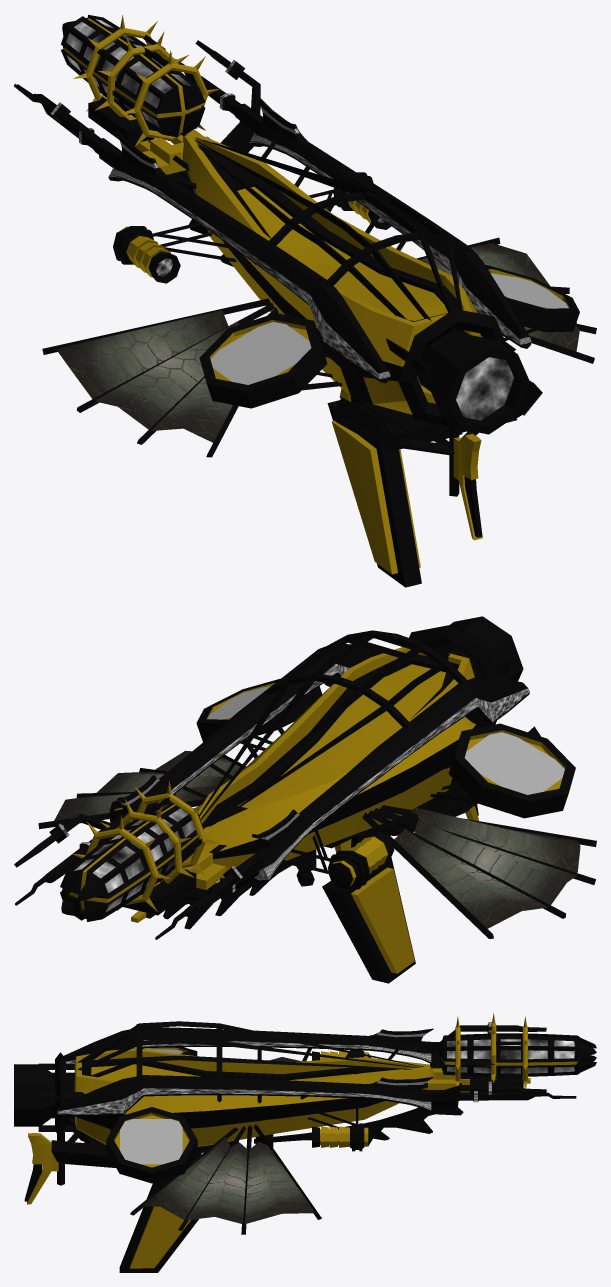
File: P4ShipV3.fbx
3 renders of one model, top to bottom at view 1: azimuth 30°, elevation 25°; view 2: azimuth 150°, elevation 25°; view 3: azimuth 270°, elevation 25°, orthographic. The views are drawn at different scales.
Parts seen in each view (by area): view 1: pCylinder1, pPlane20 (×2), pPlane4, pPlane2, pCylinder25, pPlane19, pCylinder44, pCylinder56, pCylinder28, pPlane21, pPlane3, pCylinder51 (+17 smaller); view 2: pCylinder1, pPlane20 (×2), pPlane4, pCylinder44, pPlane19, pPlane2, pCylinder56, pCylinder28, pPlane21, pCylinder51, pCylinder25, pTorus1 (+20 smaller); view 3: pCylinder1, pPlane2, pPlane20, pPlane4, pCylinder44, pCylinder56, pPlane19, pCylinder3, pPlane22, pCylinder25, pCylinder51, pPlane6 (+18 smaller).
Boxes of the visible parts, box(x1,y1,x2,y2) form: pCylinder1: box(182, 133, 482, 414); pPlane20 (×2): box(56, 243, 579, 442); pPlane4: box(14, 84, 390, 383); pPlane2: box(175, 59, 531, 348); pCylinder25: box(417, 328, 529, 434); pPlane19: box(327, 397, 421, 587); pCylinder44: box(61, 14, 205, 137); pCylinder56: box(195, 139, 462, 320); pCylinder28: box(199, 313, 327, 408); pPlane21: box(210, 322, 311, 384); pPlane3: box(333, 381, 542, 451); pCylinder51: box(198, 144, 458, 321); pCylinder1: box(185, 647, 477, 871); pPlane20 (×2): box(54, 750, 580, 928); pPlane4: box(155, 677, 529, 939); pCylinder44: box(60, 801, 203, 921); pPlane19: box(322, 824, 415, 983); pPlane2: box(15, 644, 382, 905); pCylinder56: box(199, 631, 458, 827); pCylinder28: box(448, 723, 575, 818); pPlane21: box(464, 732, 564, 794); pCylinder51: box(202, 654, 459, 828); pCylinder25: box(434, 616, 523, 681); pTorus1: box(409, 625, 500, 727); pCylinder1: box(74, 1048, 436, 1146); pPlane2: box(56, 1075, 576, 1116); pPlane20: box(141, 1137, 314, 1224); pPlane4: box(64, 1027, 441, 1063); pCylinder44: box(438, 1033, 596, 1076); pCylinder56: box(77, 1021, 423, 1077); pPlane19: box(119, 1140, 239, 1272); pCylinder3: box(106, 1107, 197, 1183); pPlane22: box(120, 1119, 182, 1164); pCylinder25: box(14, 1064, 75, 1126); pCylinder51: box(82, 1057, 399, 1080); pPlane6: box(254, 1107, 463, 1143).
Size of the model in its own units: 14.46 by 10.1 by 21.16.
